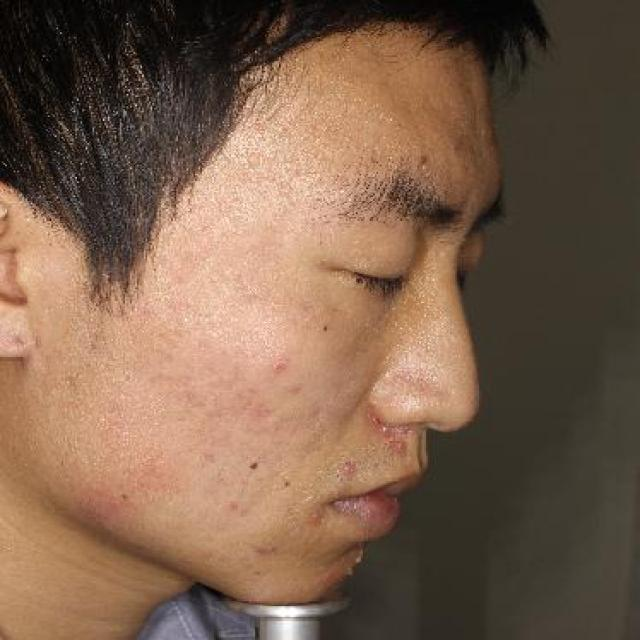Acne: (412, 146, 434, 170), (394, 442, 416, 462), (338, 458, 358, 477), (376, 420, 394, 435), (197, 546, 214, 560), (351, 551, 363, 569)
Blackheads: (310, 317, 337, 340), (114, 486, 138, 507), (243, 455, 264, 477)
